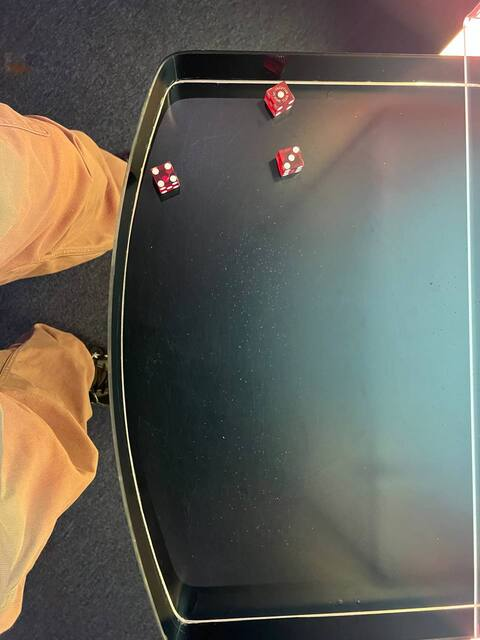four: (148, 159, 178, 189)
one: (264, 80, 296, 109)
three: (274, 143, 303, 172)
